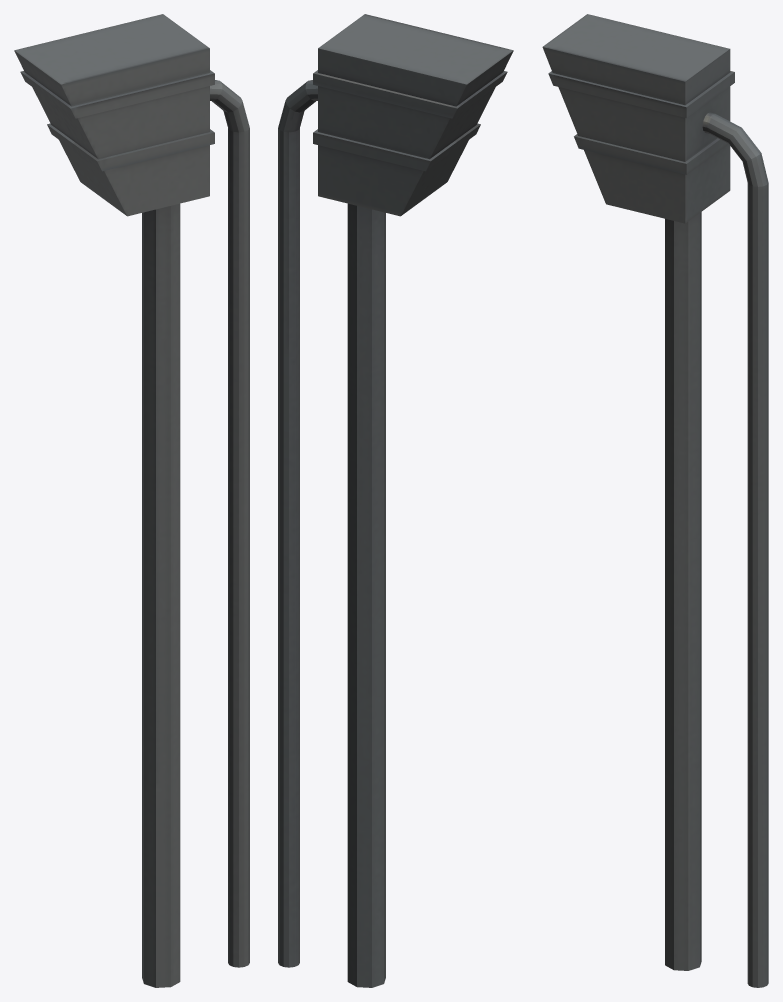
File: Chem_Gastank2.fbx
3 renders of one model, left to right at view 1: azimuth 30°, elevation 25°; view 2: azimuth 150°, elevation 25°; view 3: azimuth 330°, elevation 25°, orthographic. The views are drawn at different scales.
Parts seen in each view (by area): view 1: Gastank2; view 2: Gastank2; view 3: Gastank2.
Boxes of the visible parts, <box> form: Gastank2: <box>14,14,249,987</box>; Gastank2: <box>278,14,513,987</box>; Gastank2: <box>542,14,768,987</box>.
Bounding box in the file's own units: 1.34 × 5.74 × 0.5552.
1 material, 1 textured.
